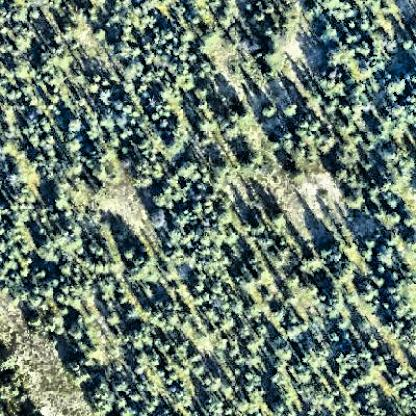tree-top: (286, 141, 321, 175), (298, 253, 326, 277), (236, 270, 259, 296), (283, 315, 306, 339), (321, 20, 343, 45), (174, 159, 200, 180), (146, 208, 168, 231), (343, 188, 366, 210), (4, 374, 24, 397), (151, 192, 175, 209), (260, 100, 279, 121), (271, 212, 292, 231), (382, 144, 401, 165), (85, 239, 105, 258), (384, 191, 401, 212), (224, 124, 242, 143), (39, 283, 56, 303), (281, 99, 297, 120), (66, 357, 84, 375), (333, 165, 351, 183), (168, 227, 186, 245), (101, 116, 120, 133), (122, 246, 142, 262), (24, 311, 44, 327), (329, 250, 346, 267), (387, 234, 405, 250), (393, 77, 408, 96), (67, 118, 84, 134), (126, 306, 142, 323), (68, 138, 84, 153), (361, 289, 376, 305), (256, 324, 273, 338), (159, 119, 174, 133), (72, 326, 83, 345), (126, 62, 140, 76), (281, 346, 295, 360), (390, 211, 404, 225), (218, 209, 231, 223), (299, 370, 312, 384), (227, 109, 241, 122), (366, 237, 379, 250), (369, 339, 381, 353), (338, 319, 353, 330), (377, 263, 389, 276), (60, 28, 71, 42), (150, 112, 164, 123)
